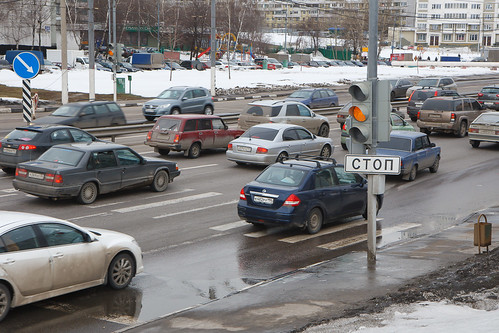building: (423, 1, 499, 53)
car: (1, 208, 153, 312), (242, 157, 391, 230), (10, 142, 181, 202), (231, 123, 335, 168), (150, 113, 248, 153), (3, 124, 95, 165), (371, 130, 445, 180), (34, 97, 129, 130), (417, 93, 483, 137), (142, 79, 216, 112)
crosswalk: (131, 179, 395, 254)
sidewalk: (134, 219, 499, 329)
sign: (14, 48, 45, 83)
